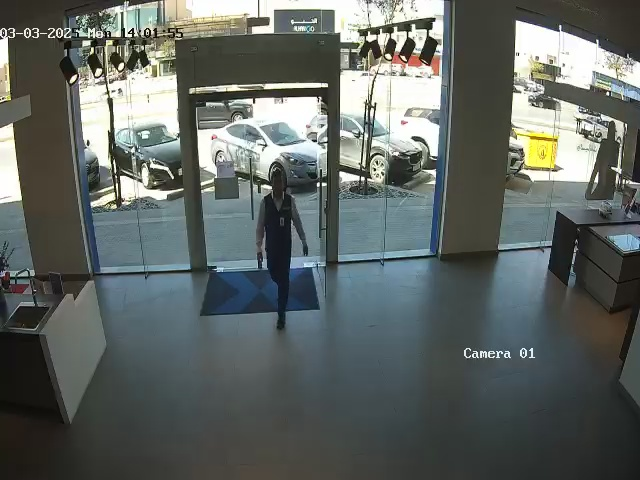employee: (255, 163, 309, 331)
